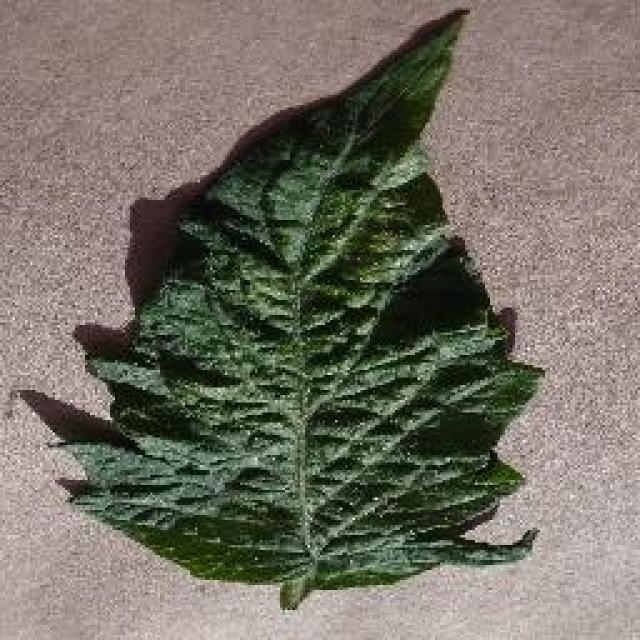Tomato___Spider_mites Two-spotted_spider_mite: (75, 20, 538, 608)
